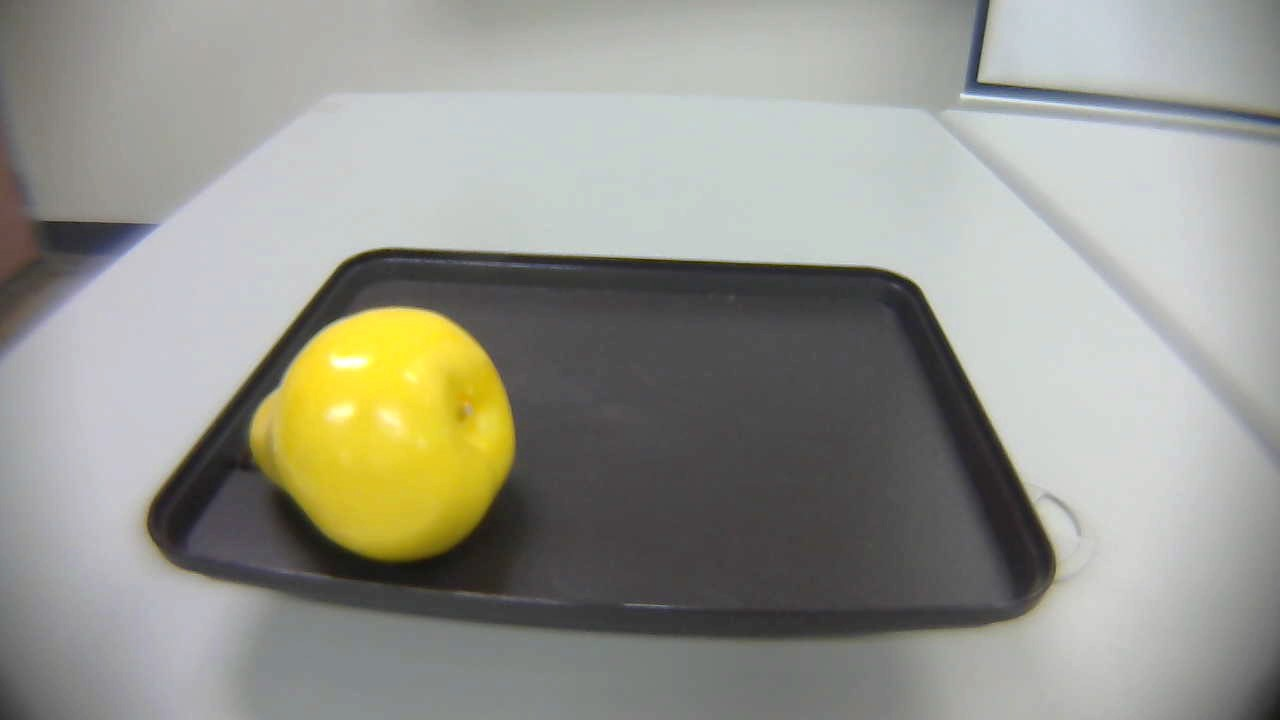yellow pear: (210, 301, 531, 571)
